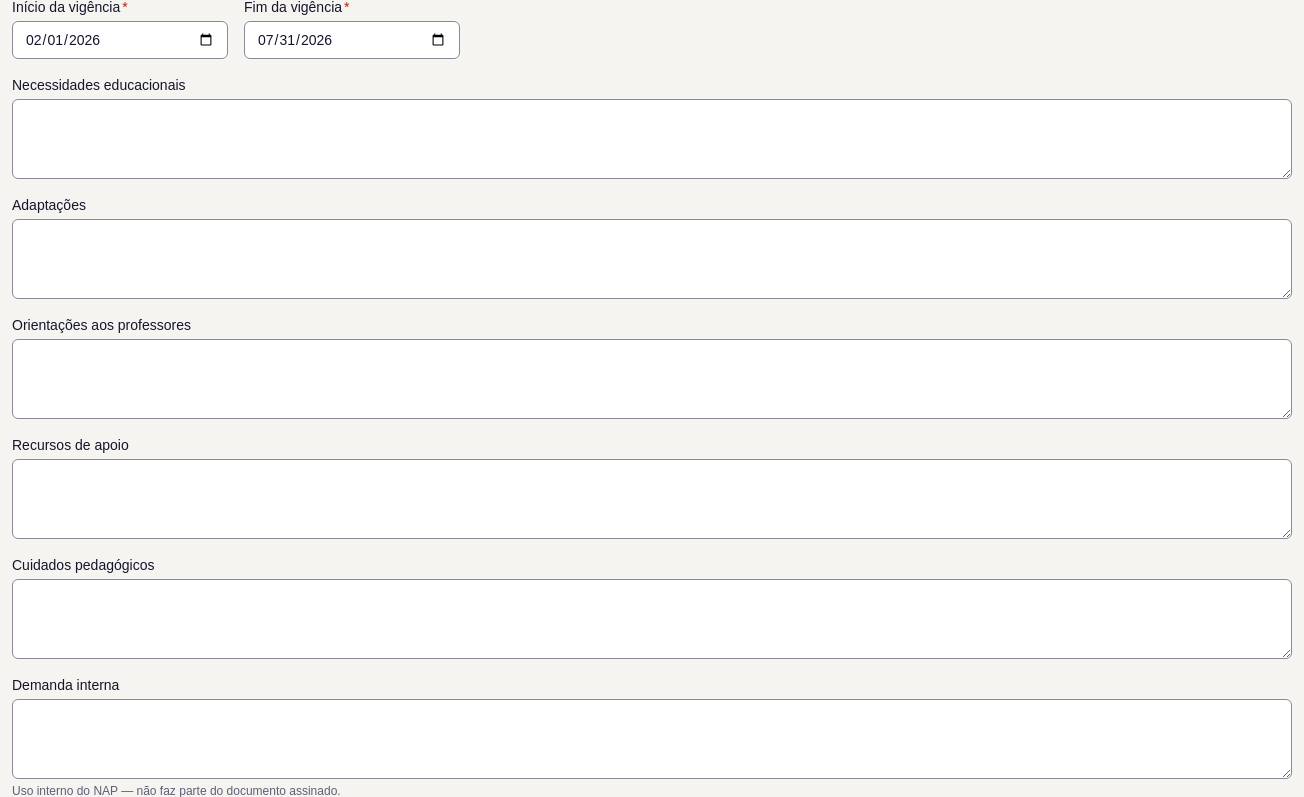
it: ConteudoPeiForm › Spinner_fica_no_botao_pressionado_ao_enviar
Type "Tempo extra" into the text box labelled "Adaptações". click: (652, 259)
box: [12,219,1292,299]
(page scrolled)
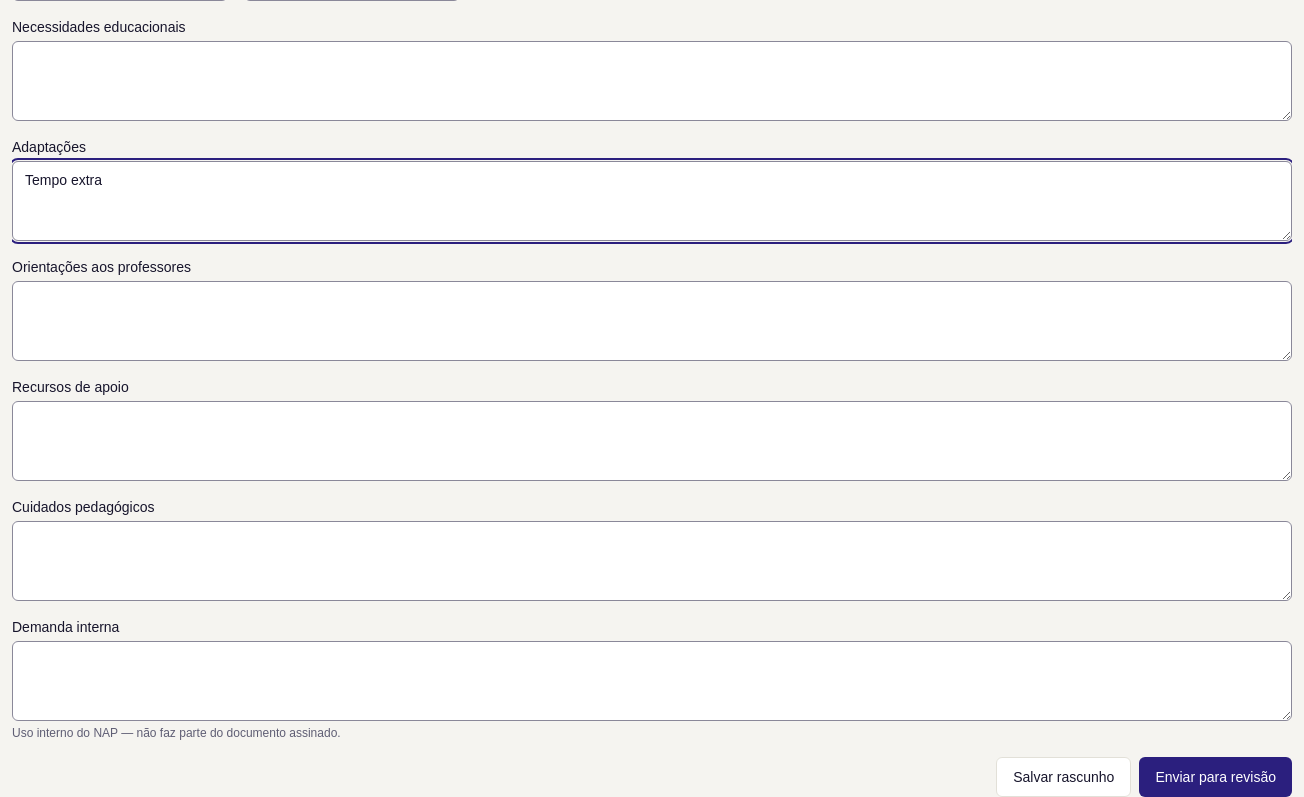
Click the button "Enviar para revisão". click: click(1216, 777)
box: [1139,757,1292,796]
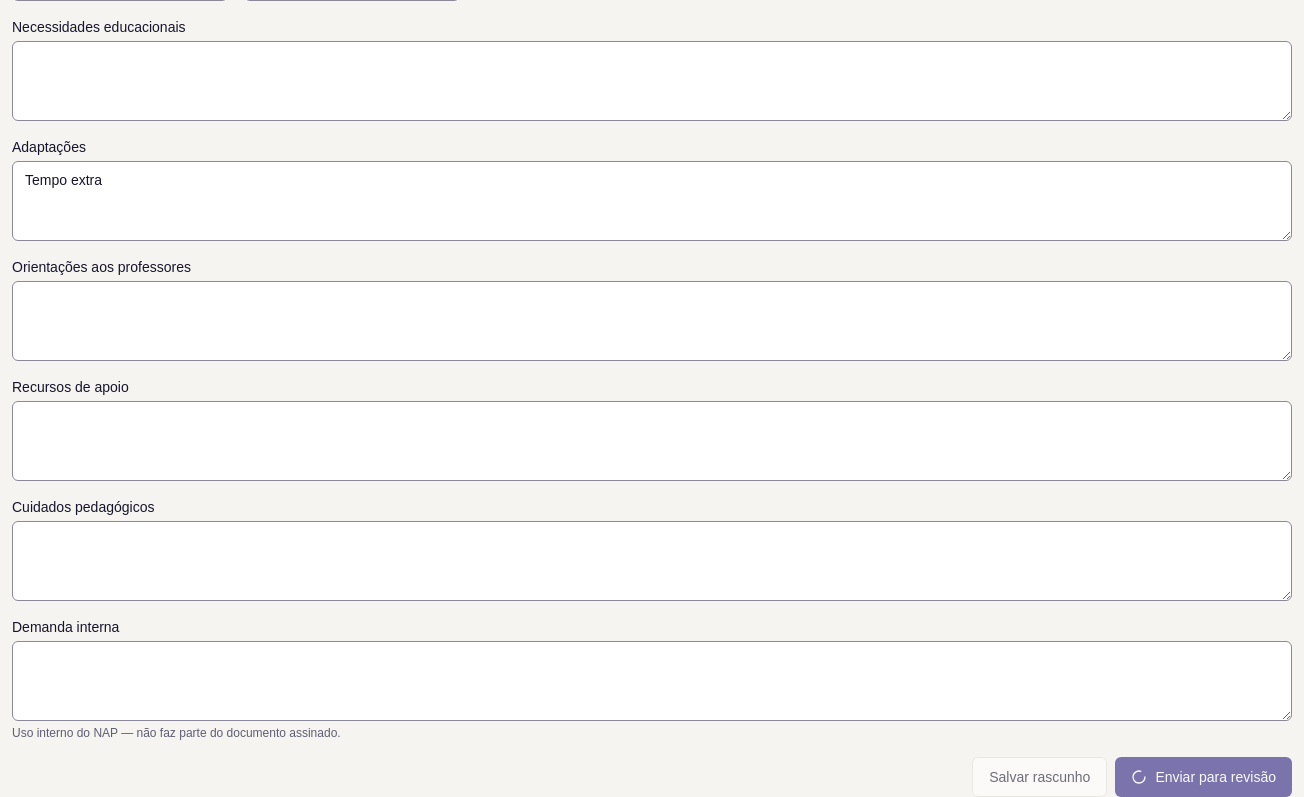
Now the button "Salvar rascunho" is disabled, box [972,757,1107,796]
